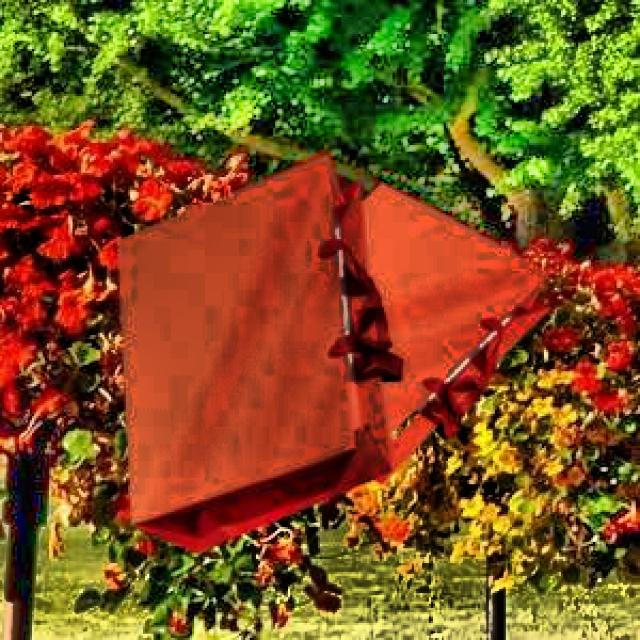Paper-bag: (94, 155, 555, 547)
